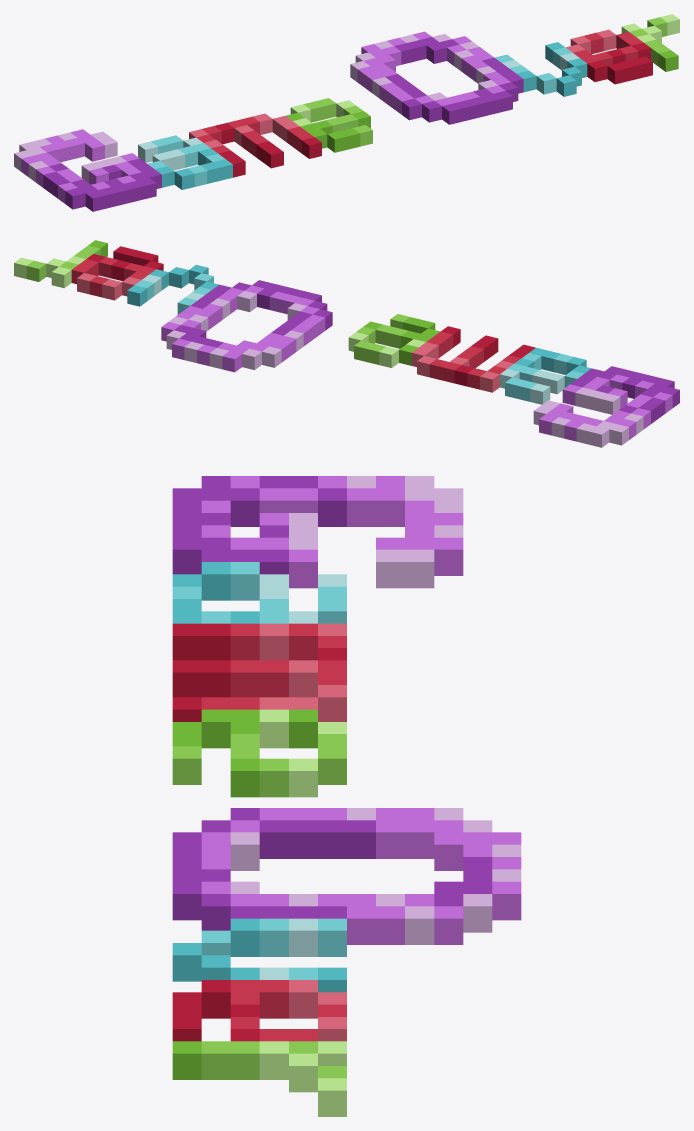
File: game_over_3D.fbx
3 renders of one model, top to bottom at view 1: azimuth 30°, elevation 25°; view 2: azimuth 150°, elevation 25°; view 3: azimuth 270°, elevation 25°, orthographic. The views are drawn at different scales.
Visible parts, largest first — view 1: imagetostl_mesh0; view 2: imagetostl_mesh0; view 3: imagetostl_mesh0.
Boxes of the visible parts, left/top/right/bottom form: imagetostl_mesh0: left=14, top=14, right=679, bottom=211; imagetostl_mesh0: left=14, top=240, right=679, bottom=447; imagetostl_mesh0: left=172, top=476, right=521, bottom=1116.
Size of the model in its own units: 7.5 by 0.15 by 1.8.
